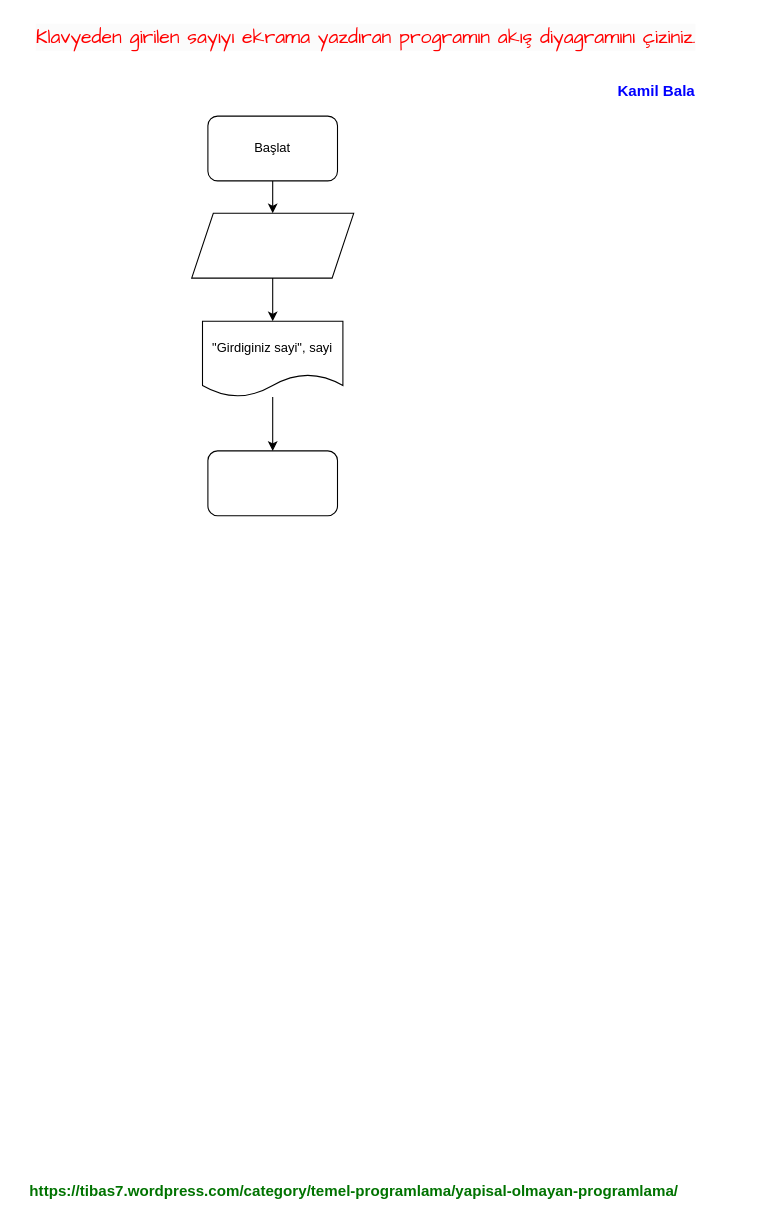
Image size: 760x1225. Some labels were removed from this diagram. Each missing label, with the centre of its shape:
"Bir sayi giriniz", sayi: (x=272, y=245)
Bitir: (x=272, y=483)
